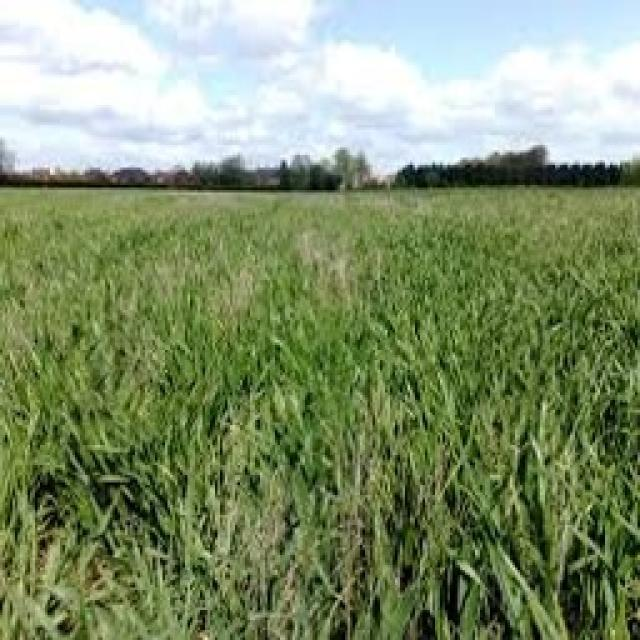Healthy Wheat: (0, 180, 638, 638)
